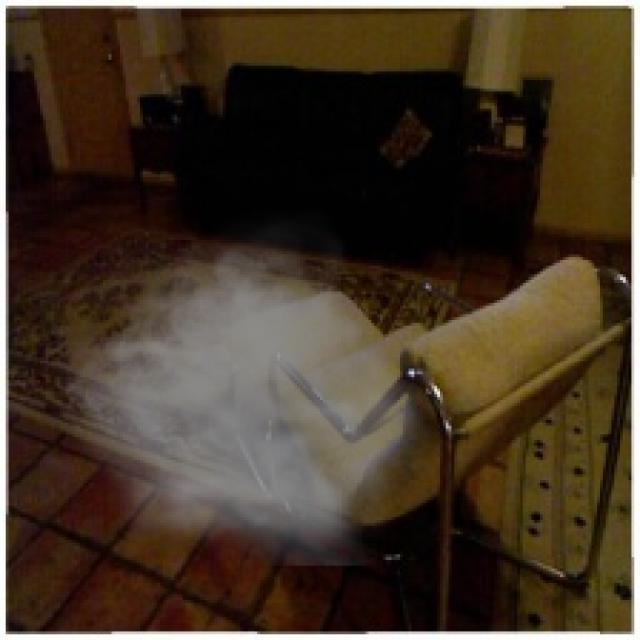Smoke: (48, 205, 443, 566)
